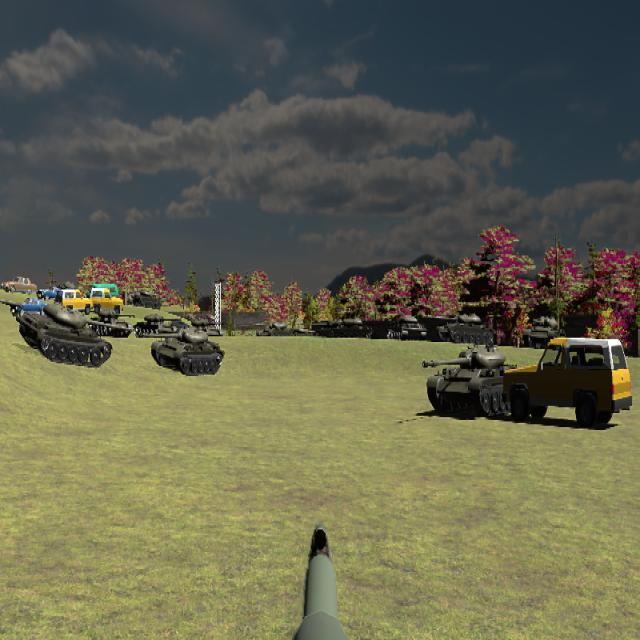Tank: (422, 348, 534, 420), (16, 303, 134, 368), (138, 325, 225, 377), (428, 313, 495, 345), (87, 308, 136, 339), (522, 314, 564, 349), (88, 309, 137, 339), (135, 313, 180, 338)
car: (505, 338, 634, 428), (12, 295, 50, 322), (89, 287, 123, 317), (57, 288, 92, 315), (3, 275, 38, 296)
